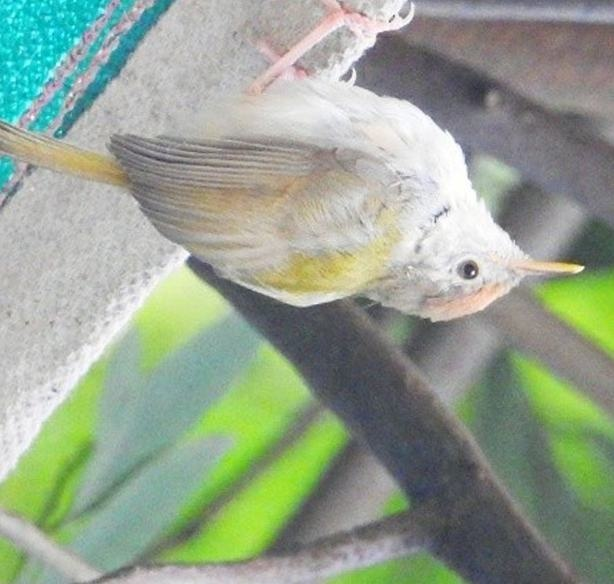tailorbird: (93, 67, 591, 321)
